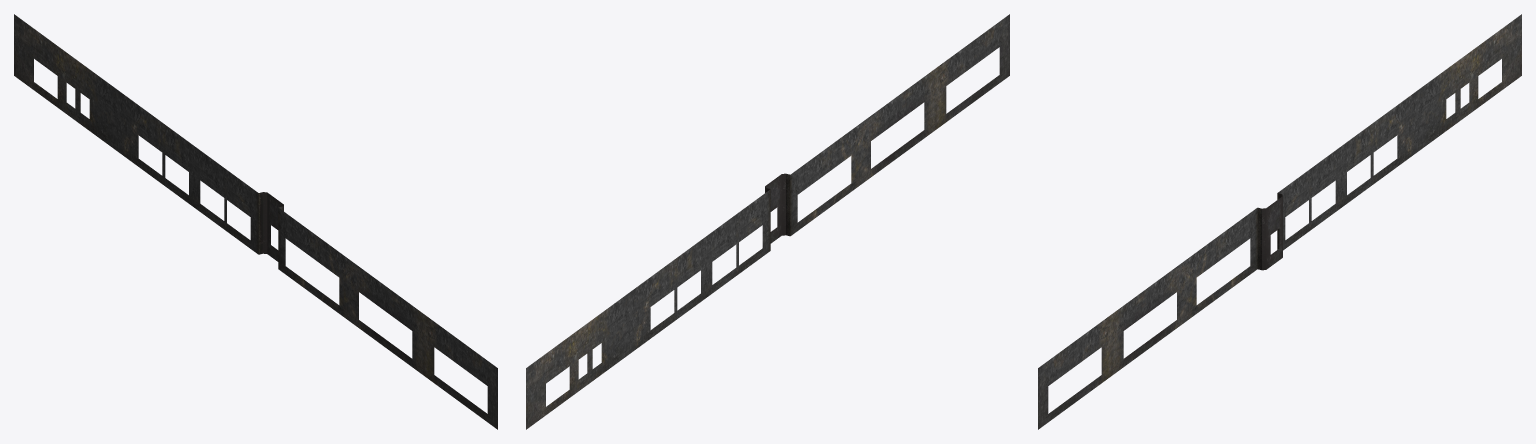
File: Wall_05.FBX
3 renders of one model, left to right at view 1: azimuth 30°, elevation 25°; view 2: azimuth 150°, elevation 25°; view 3: azimuth 330°, elevation 25°, orthographic.
Parts seen in each view (by area): view 1: Wall_05; view 2: Wall_05; view 3: Wall_05.
Boxes of the visible parts, bbox=[...] form: Wall_05: bbox=[14, 14, 497, 429]; Wall_05: bbox=[526, 14, 1009, 429]; Wall_05: bbox=[1038, 14, 1521, 429].
Size of the model in its own units: 62.38 by 511 by 7265.
